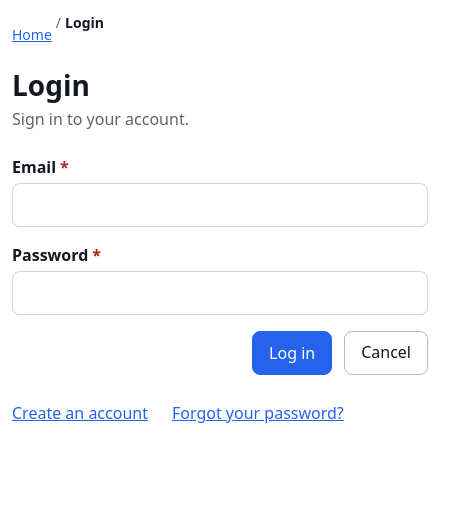
Scenario: LoginForm (ACC-10) › 403 says the account is suspended
Expected: the button "Log in" is shown, left=252, top=331, right=332, bottom=375
In the field labelled "Email*": (220, 205) left=12, top=183, right=428, bottom=227, type "ziad@example.com"
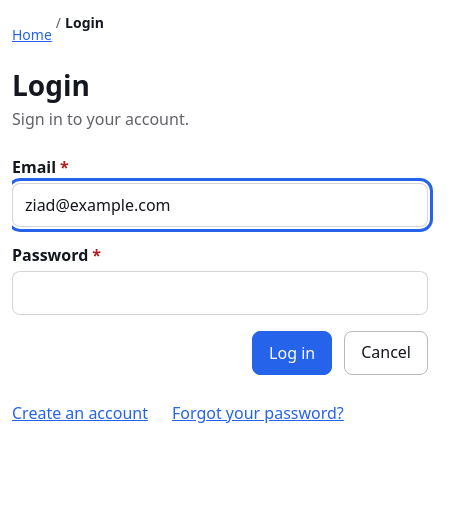
In the password field labelled "Password*": (220, 293) left=12, top=271, right=428, bottom=315, type "Passw0rdOK"
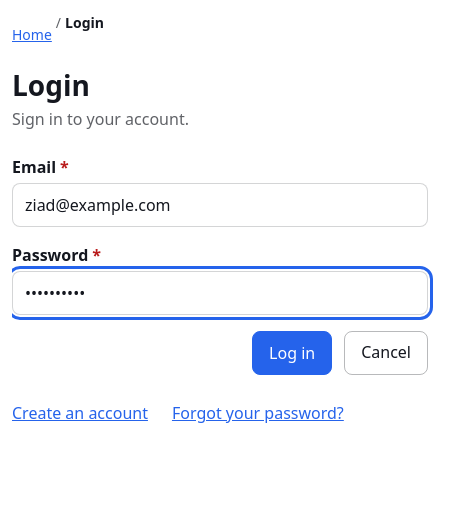
Click the button "Log in": (292, 353) left=252, top=331, right=332, bottom=375
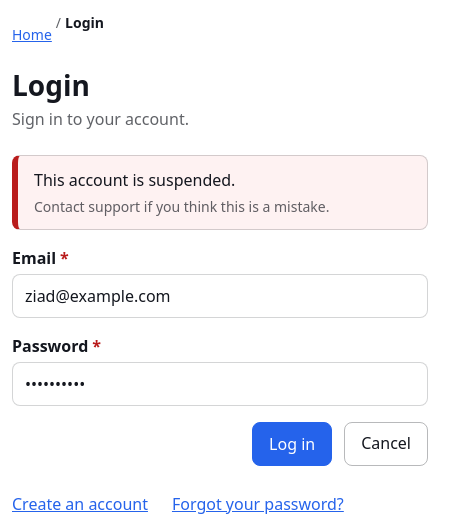
Expected: the message shows "suspended", left=34, top=169, right=235, bottom=191
